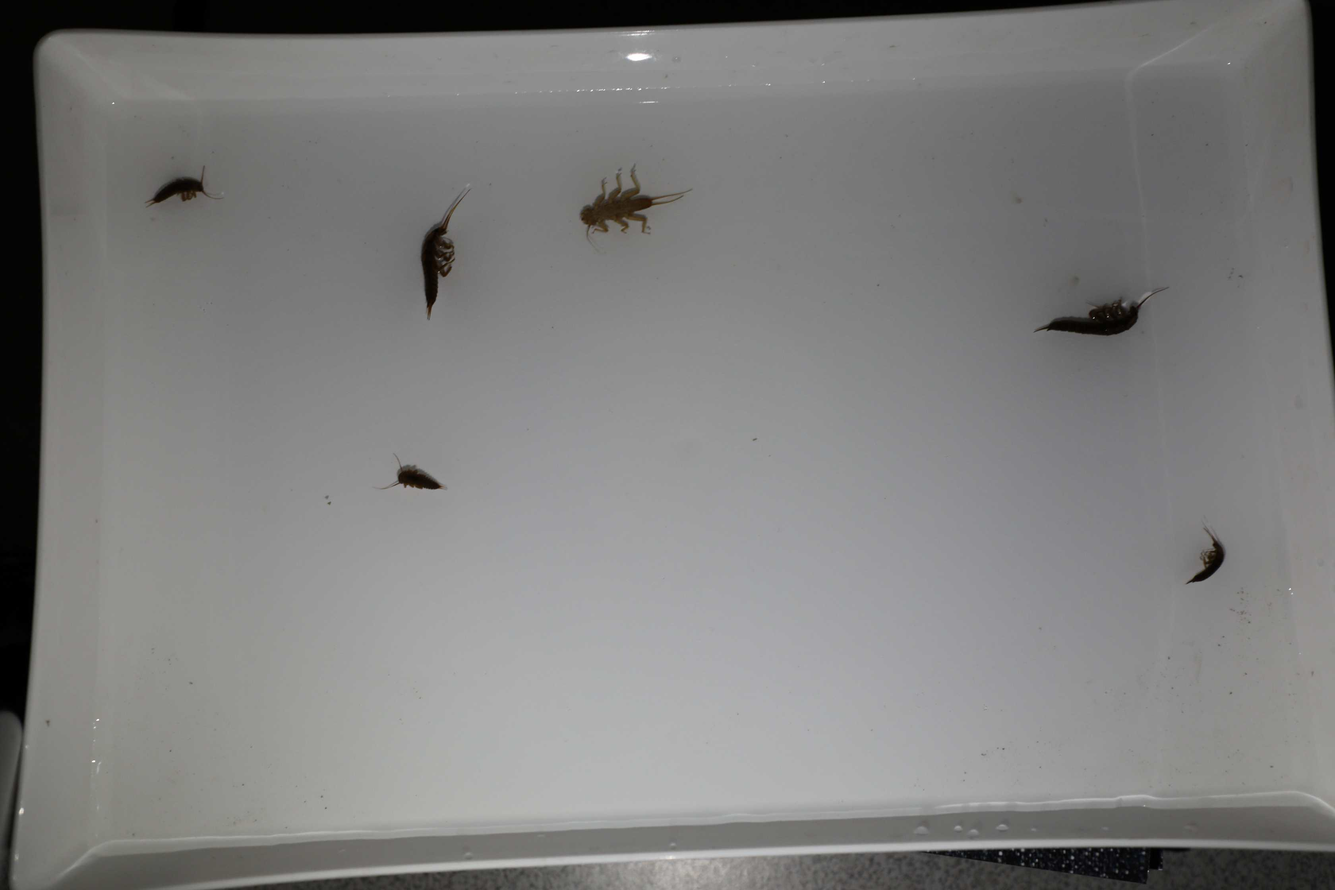Stonefly: (1034, 284, 1171, 352), (573, 167, 685, 244), (421, 183, 472, 324), (145, 162, 220, 213), (372, 452, 449, 495), (1181, 520, 1225, 591)
